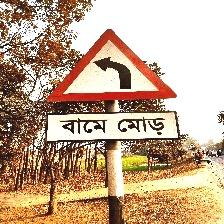Left-Turn: (44, 28, 181, 144)
